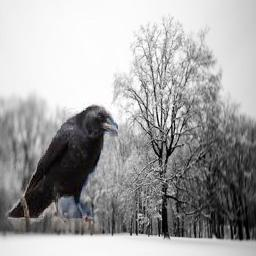Crow: (4, 102, 119, 234)
